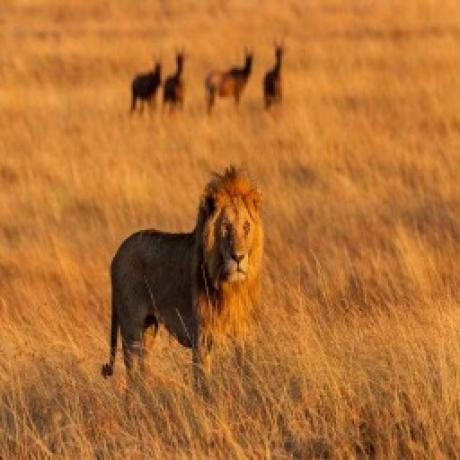Lion: (103, 160, 267, 405)
